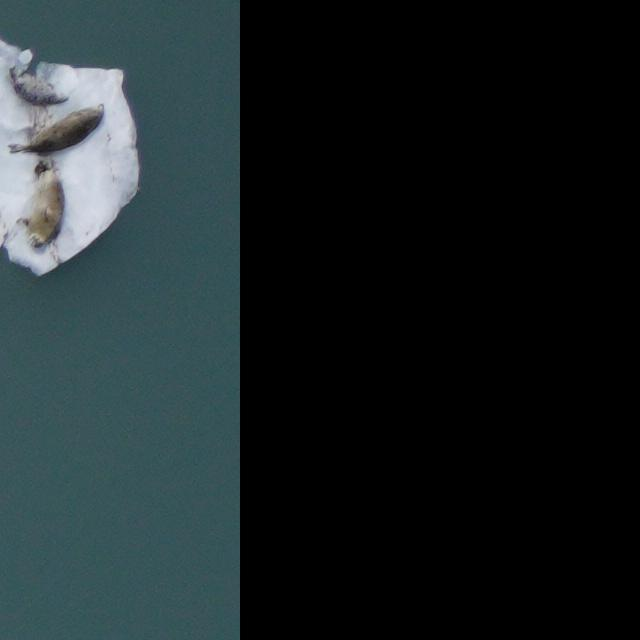seal: (3, 103, 112, 163), (10, 157, 78, 252), (2, 63, 70, 117)
